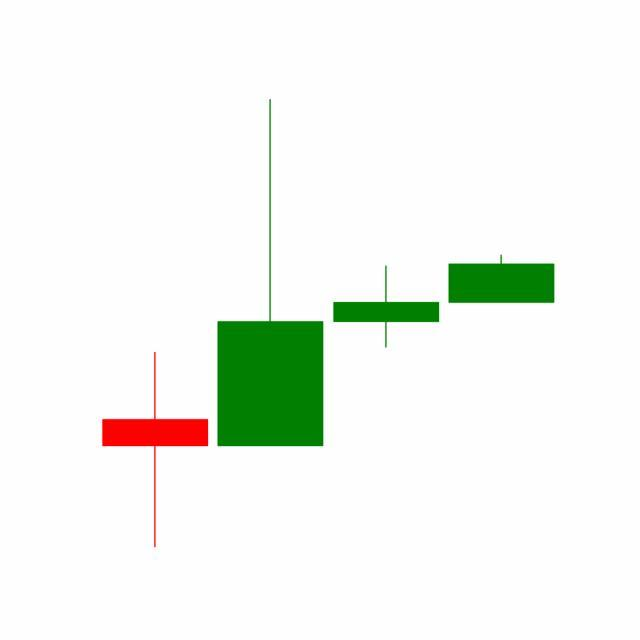Spinning Top: (329, 264, 445, 349)
